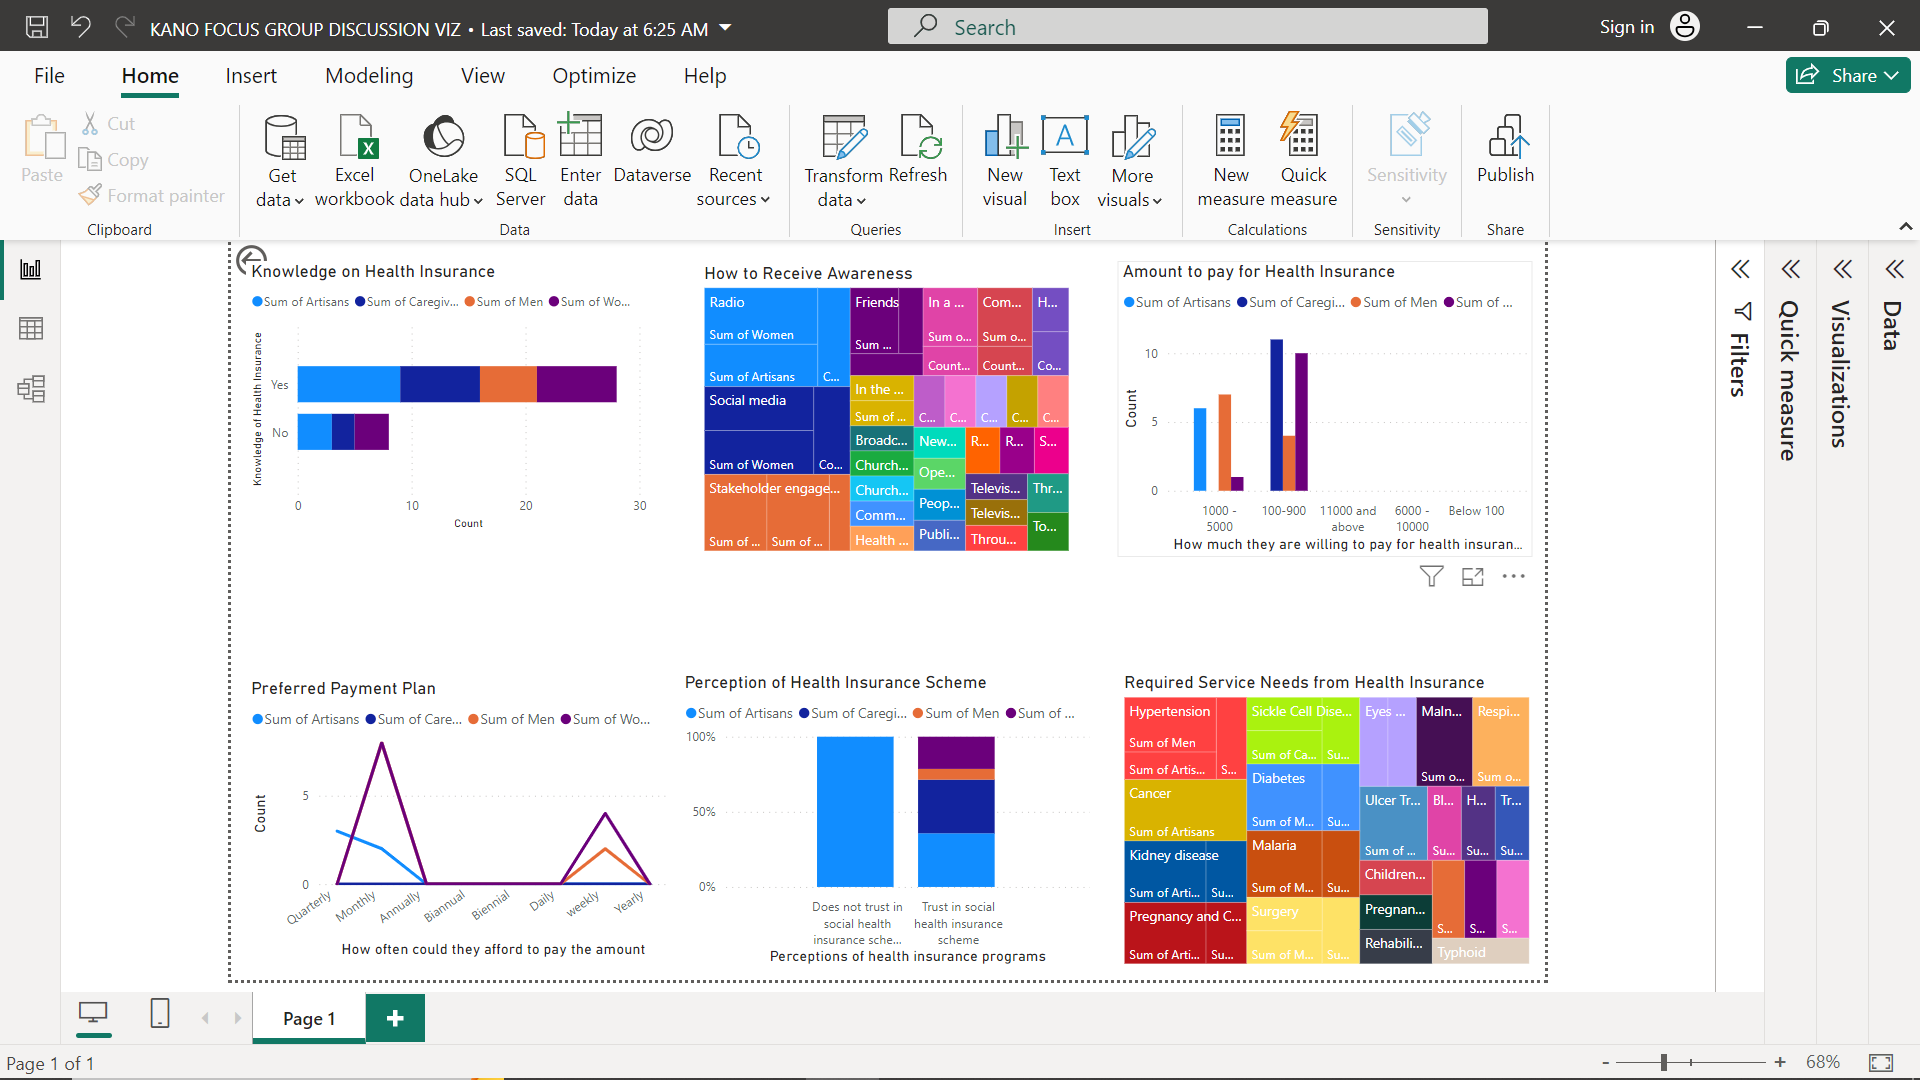

The dashboard page shown, as its layout file describes it:
{"tool":"powerbi","page":{"name":"Page 1","canvas":[1280,720],"ordinal":0},"visuals":[{"type":"actionButton","box":[0,0,100,40],"z":1},{"type":"barChart","title":"Knowledge on Health Insurance","fields":{"Category":["Knowledge on Health Insurance (2).Knowledge of Health Insurance"],"Y":["Sum(Knowledge on Health Insurance (2).Artisans)","Sum(Knowledge on Health Insurance (2).Caregivers)","Sum(Knowledge on Health Insurance (2).Men)","Sum(Knowledge on Health Insurance (2).Women)"]},"box":[14.2,20.5,394.7,265.3],"z":2},{"type":"treemap","title":"How to Receive Awareness","fields":{"Group":["Awareness on Health insurance (2).How would you prefer to receive information about social health insurance scheme(SHIS)"],"Values":["Sum(Awareness on Health insurance (2).Artisans)","Count(Awareness on Health insurance (2).Men)","Sum(Awareness on Health insurance (2).Women)","Sum(Awareness on Health insurance (2).Caregivers)"]},"box":[456.3,22.1,364.7,285.8],"z":3},{"type":"clusteredColumnChart","title":"Amount to pay for Health Insurance","fields":{"Category":["payment for health insurance (2).How much they are  willing to pay for health insurance scheme"],"Y":["Sum(payment for health insurance (2).Artisans)","Sum(payment for health insurance (2).Caregivers)","Sum(payment for health insurance (2).Men)","Sum(payment for health insurance (2).Women)"]},"box":[863.7,20.5,404.2,287.4],"z":4},{"type":"lineChart","title":"Preferred Payment Plan","fields":{"Category":["payment duration (2).How often could they afford to pay the amount"],"Y":["Sum(payment duration (2).Artisans)","Sum(payment duration (2).Caregivers)","Sum(payment duration (2).Men)","Sum(payment duration (2).Women)"]},"box":[14.2,426.3,415.3,276.3],"z":5},{"type":"hundredPercentStackedColumnChart","title":"Perception of Health Insurance Scheme","fields":{"Category":["Perception on health insurance (2).Perceptions of health insurance programs"],"Y":["Sum(Perception on health insurance (2).Artisans)","Sum(Perception on health insurance (2).Caregivers)","Sum(Perception on health insurance (2).Men)","Sum(Perception on health insurance (2).Women)"]},"box":[437.4,420,404.2,289],"z":6},{"type":"treemap","title":"Required Service Needs from Health Insurance","fields":{"Group":["Services needed.What services should be covered in Health Insurance Scheme"],"Values":["Sum(Services needed.Artisans)","Sum(Services needed.Caregivers)","Sum(Services needed.Men)","Sum(Services needed.Women)"]},"box":[864,420,404,289],"z":7}]}

Visuals, with their boxes on the page's 1280x720 design canvas (x1, y1, x2, y2). These are canvas units, not pixel positions in the 1920x1080 screenshot, which may show the page scaled, cropped or inside an application window:
actionButton: locate(0, 0, 100, 40)
"Knowledge on Health Insurance" barChart: locate(14, 20, 409, 286)
"How to Receive Awareness" treemap: locate(456, 22, 821, 308)
"Amount to pay for Health Insurance" clusteredColumnChart: locate(864, 20, 1268, 308)
"Preferred Payment Plan" lineChart: locate(14, 426, 430, 703)
"Perception of Health Insurance Scheme" hundredPercentStackedColumnChart: locate(437, 420, 842, 709)
"Required Service Needs from Health Insurance" treemap: locate(864, 420, 1268, 709)
